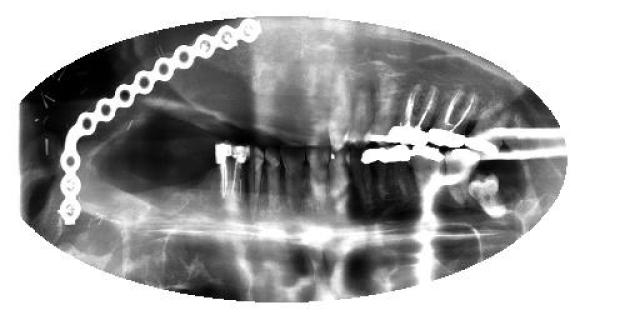Fillings: (468, 105, 512, 156), (442, 149, 478, 205), (408, 144, 444, 195), (370, 95, 398, 144), (384, 144, 408, 165), (361, 148, 385, 168)
Implant: (392, 85, 438, 147), (428, 89, 473, 148), (228, 144, 248, 201), (214, 139, 232, 201)
Restorations: (466, 174, 505, 218)
